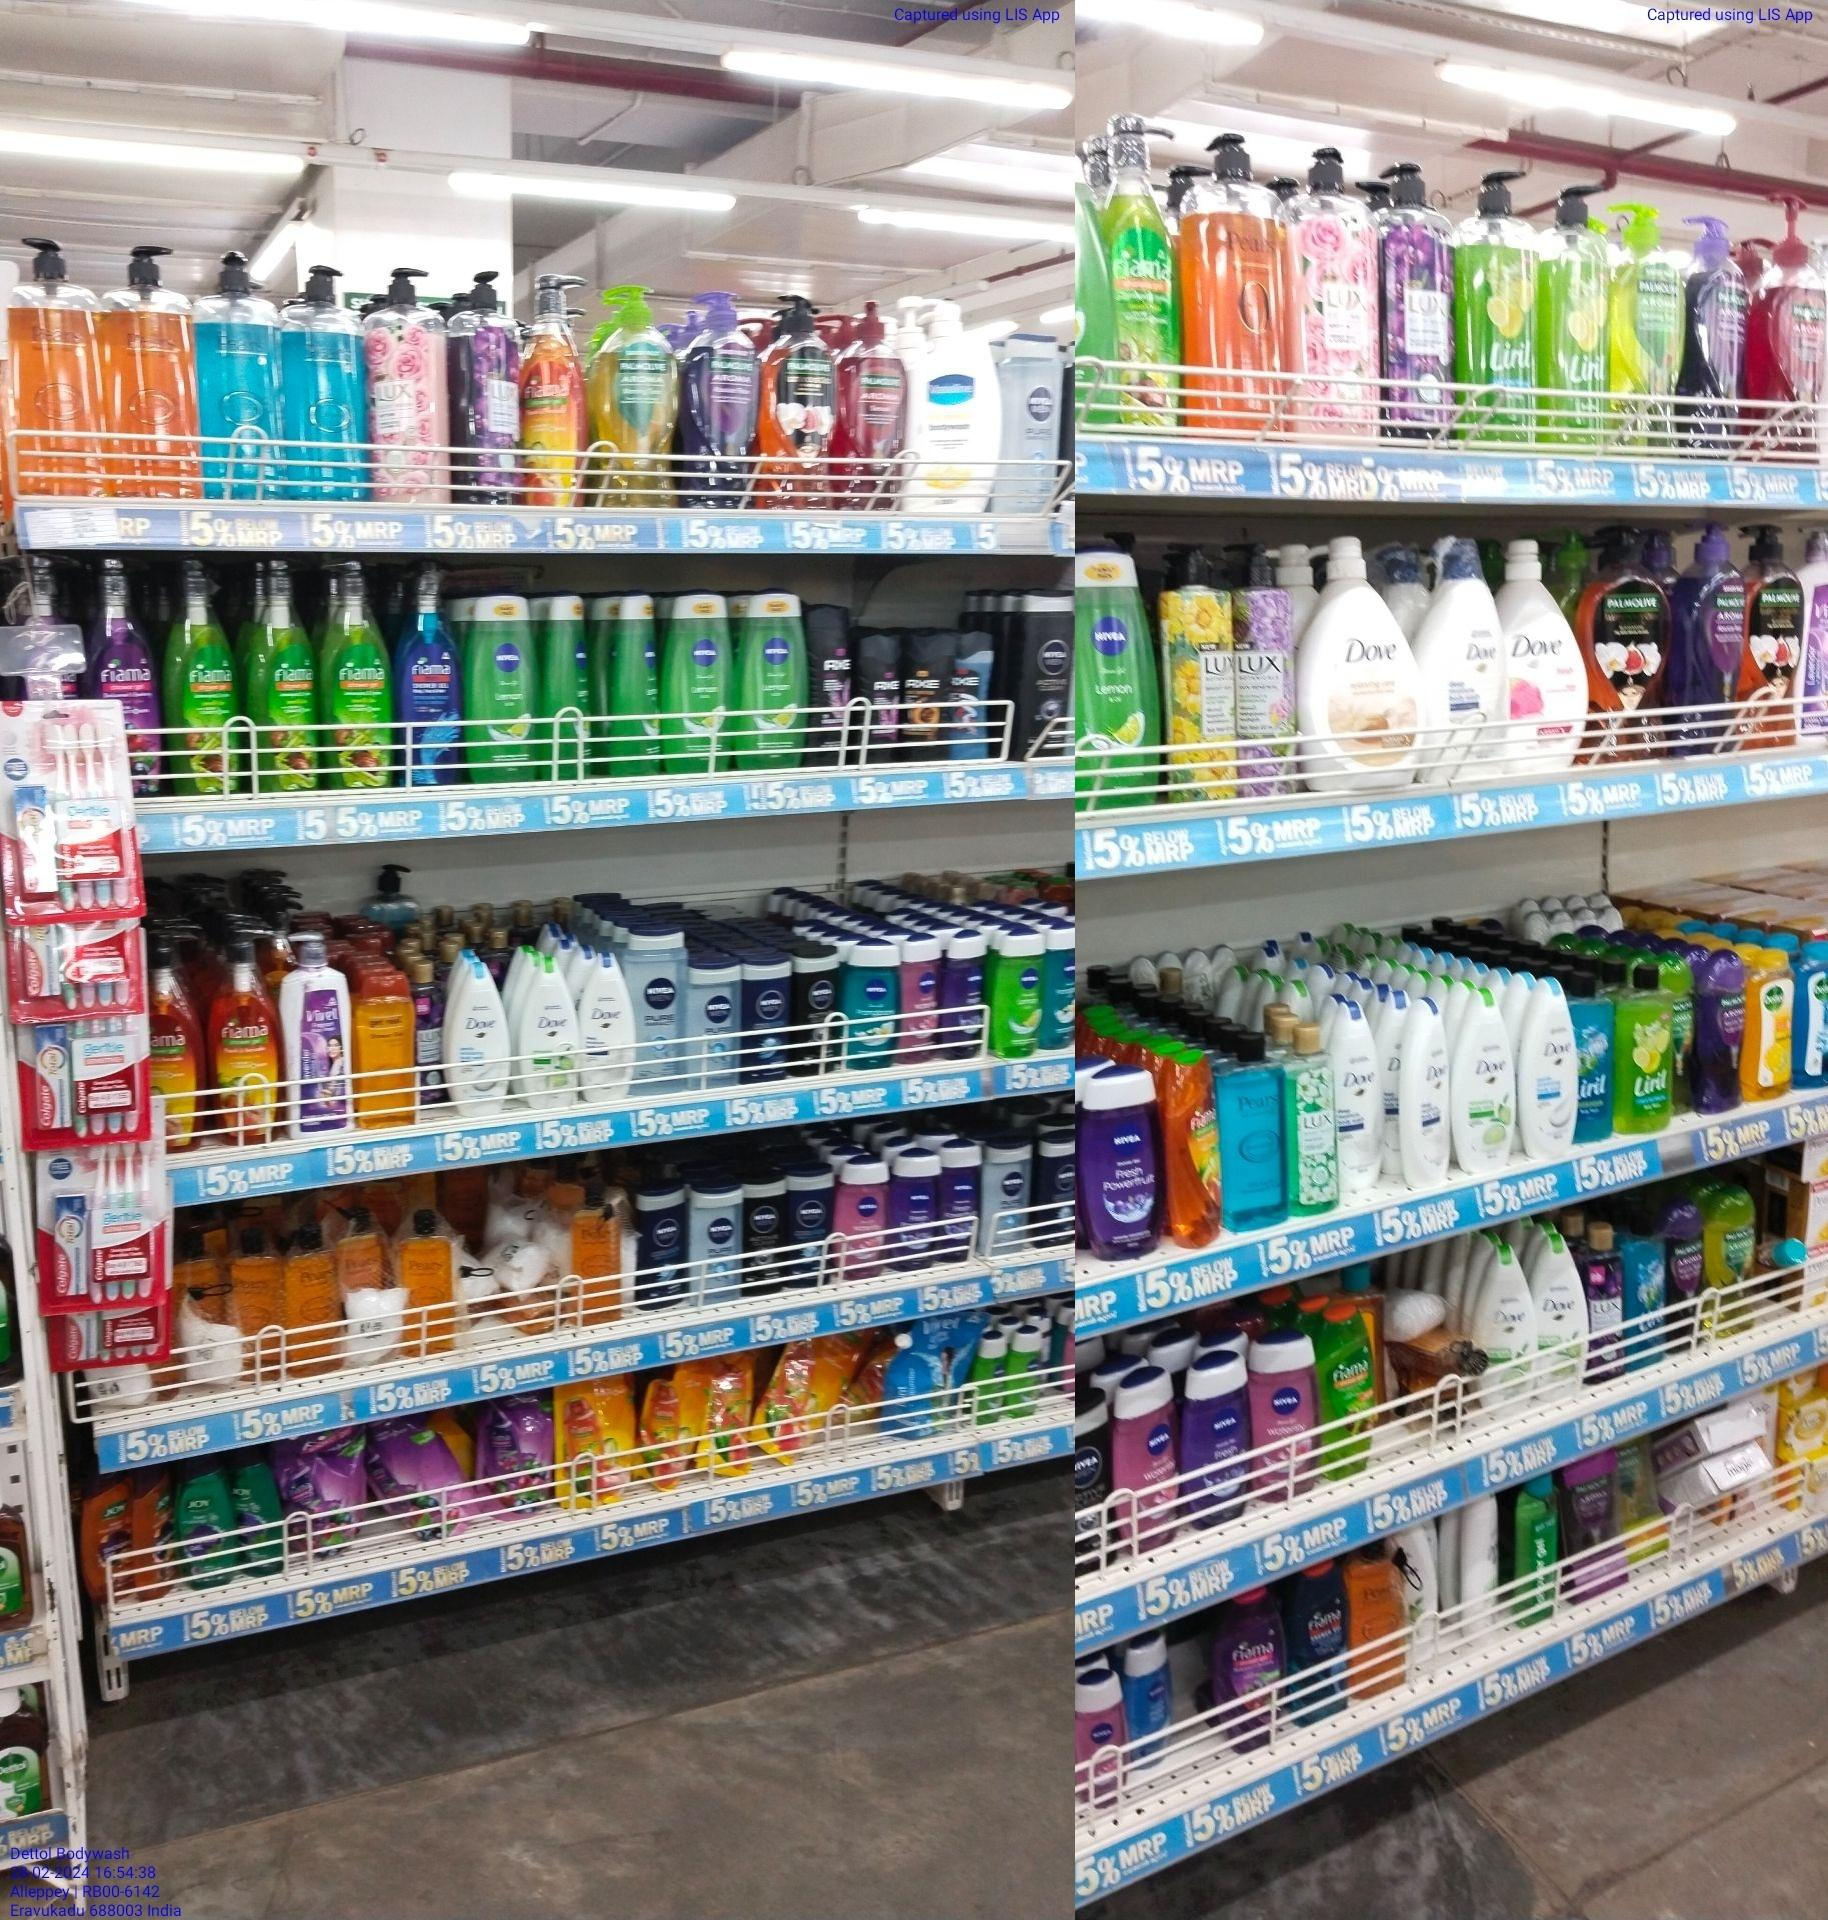Dettol_Bodywash_Refresh: (1753, 950, 1801, 1101)
Dove_Deep_Moisture_Body_Wash_250ML: (1406, 1001, 1452, 1190), (581, 953, 634, 1107), (1338, 1006, 1380, 1186)
Dove_Gentle_Exfoliating_Body_Wash_250ML: (1526, 979, 1576, 1162), (453, 960, 511, 1116)
Dove_Refreshing_Body_Wash_250ML: (1458, 991, 1518, 1178), (520, 958, 580, 1113), (1478, 1250, 1535, 1409), (1538, 1238, 1586, 1406)
Fiama_Shower_Gel_Lemongrass_and_Jojoba_250ML: (1322, 1303, 1375, 1483)
Get_Real_Shower_Gel_Moisturising_Glycerin_300ML: (357, 970, 417, 1131)
Liril_Cooling_Mint_Body_Wash_250ML: (1578, 975, 1615, 1145), (1627, 1212, 1667, 1371)
Liril_Lime_and_Tea_Tree_Oil_Body_Wash_250ML: (1621, 965, 1674, 1135)
Lux_Black_Orchid_Scent_and_Juniper_Oil_Body_Wash_245ML: (1586, 1222, 1624, 1385)
Lux_Body_Wash_Skin_Detox_Freesia_Scent_and_Alove_Vera_245ML: (1284, 1029, 1332, 1219)
Nivea_Shower_Gel_Frangipani_and_Oil_250ML: (842, 939, 899, 1070)
Nivea_Shower_Gel_Fresh_Powerfruit_250ML: (1087, 1068, 1164, 1260), (1187, 1349, 1248, 1531), (943, 933, 984, 1059)
Nivea_Shower_Gel_Lemon_and_Oil_250ML: (1073, 537, 1161, 813), (468, 586, 540, 787), (665, 588, 739, 775), (741, 585, 808, 771), (991, 927, 1041, 1061)
Nivea_Shower_Gel_Waterlily_and_Oil_250ML: (1120, 1370, 1180, 1551), (1252, 1332, 1314, 1505), (900, 934, 941, 1066)
Palmolive_Aroma_Morning_Tonic_Shower_Gel_250ML: (1711, 1181, 1754, 1339)
Palmolive_Aroma_Relax_250ML: (1703, 955, 1744, 1114), (1672, 1203, 1708, 1354)
Pears_Pure_Glycerin_and_Mint_Extracts_Body_Wash_250ML: (1223, 1032, 1283, 1234)
